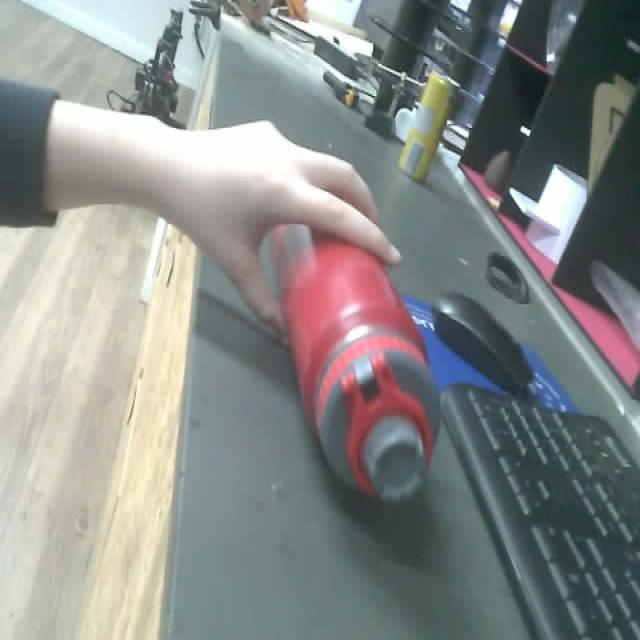water bottle: (277, 236, 442, 508)
